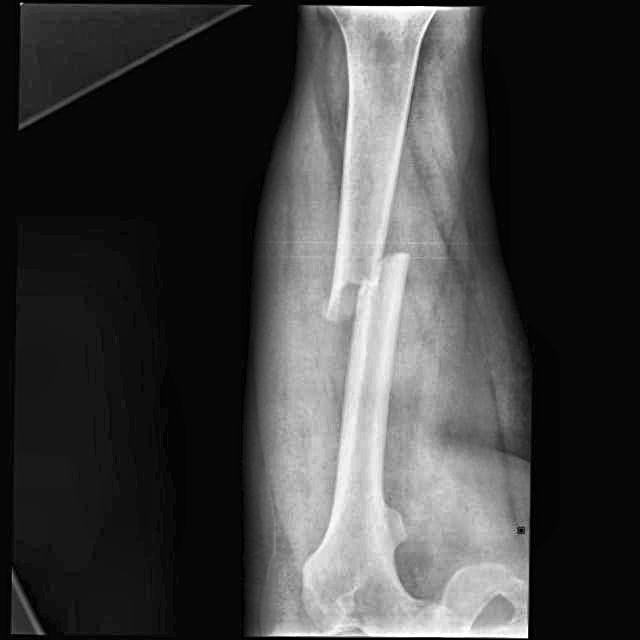Transverse: (304, 205, 429, 343)
